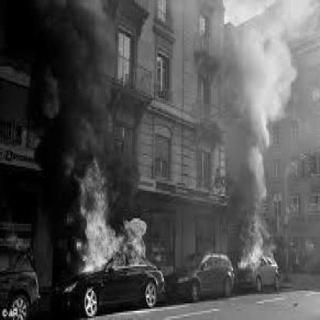Fire: (236, 210, 264, 282)
Smoke: (20, 5, 140, 146), (223, 22, 277, 202)
